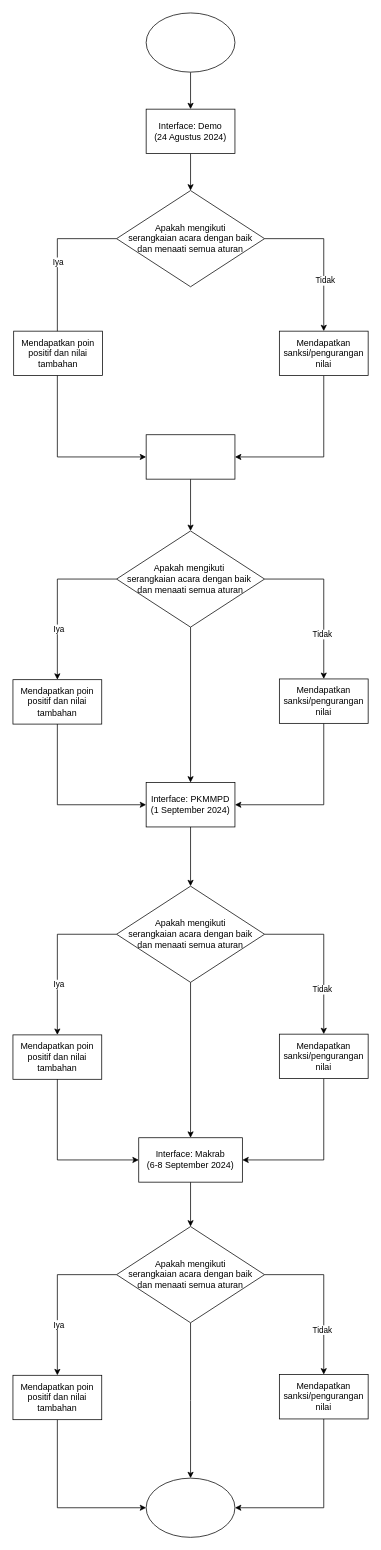
This 381x1550 diagram has some shape labels left out. Here are the shapes that lost their labels. From the top down, the box of each, then its label:
(145, 12, 235, 72): Mulai
(145, 434, 235, 479): Interface: Mainphase (31 Agustus 2024)
(145, 1477, 235, 1537): Selesai
